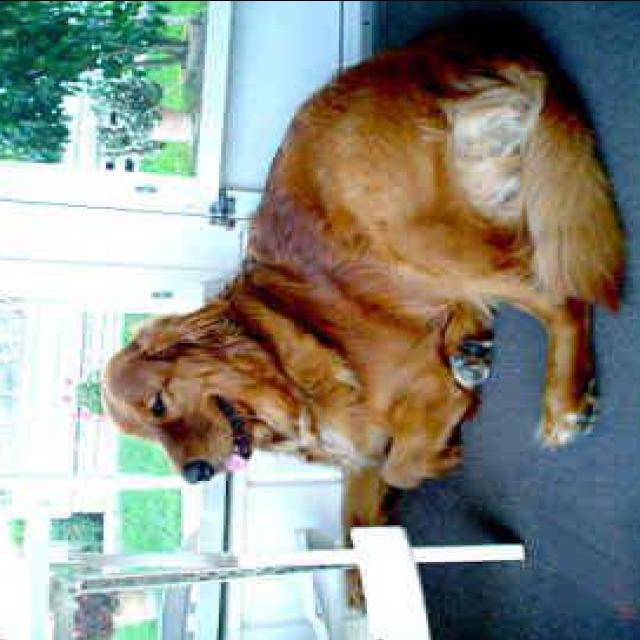golden: (102, 285, 350, 503)
